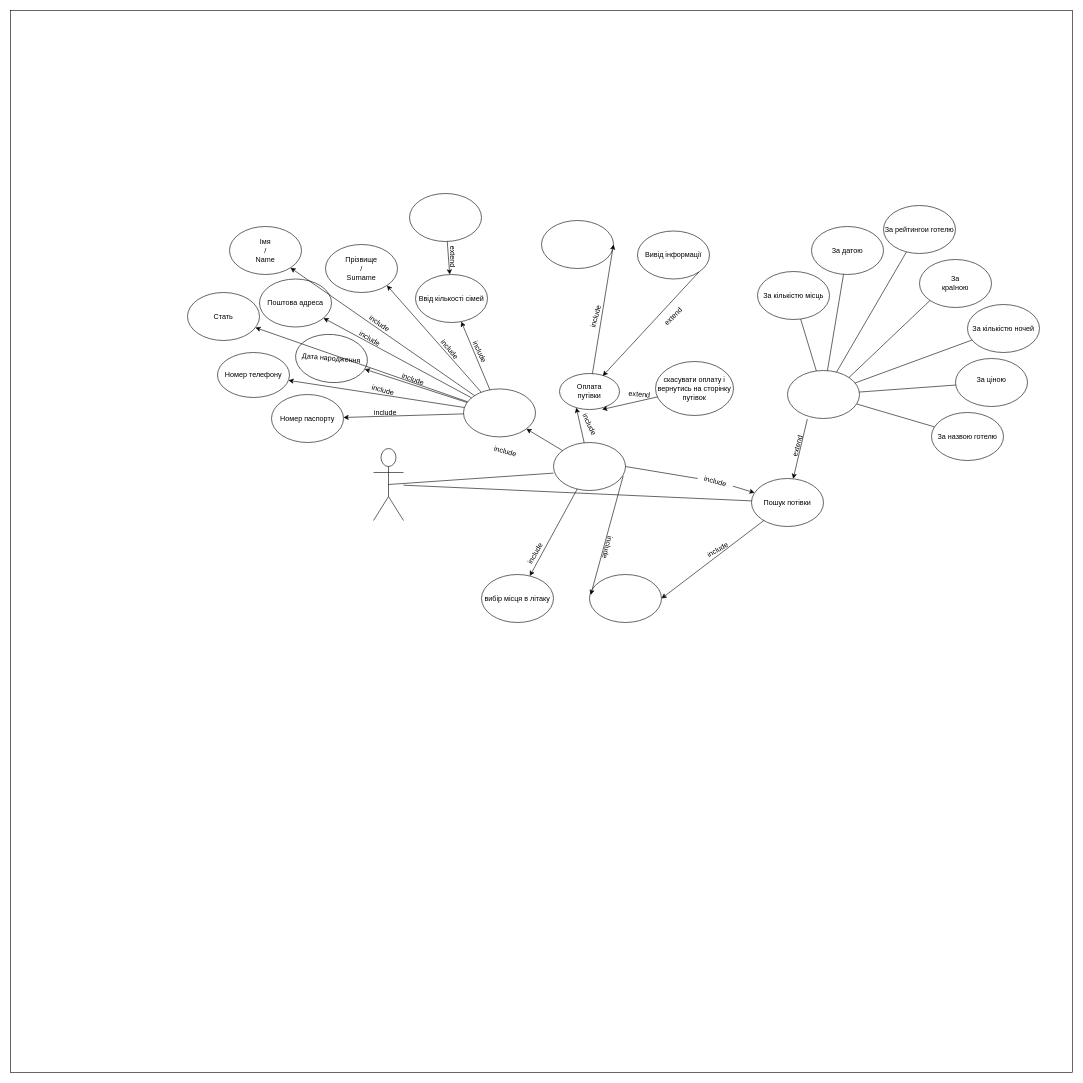
This 1083x1083 diagram has some shape labels left out. The shapes that lost their labels are listed below. From the top down, each one's centre as x and y in pixels, then its label:
At point (445, 217): "Якщо їде дві сім'і разом, то видається скидка 10 %".
At point (577, 244): "Повідомлення про успішну оплату".
At point (499, 412): "Ввід інформації покупця".
At point (823, 394): "Сортування".
At point (388, 484): "Менеджер".
At point (589, 466): "Покупка путівки".
At point (625, 598): "Логін в акаунт".
